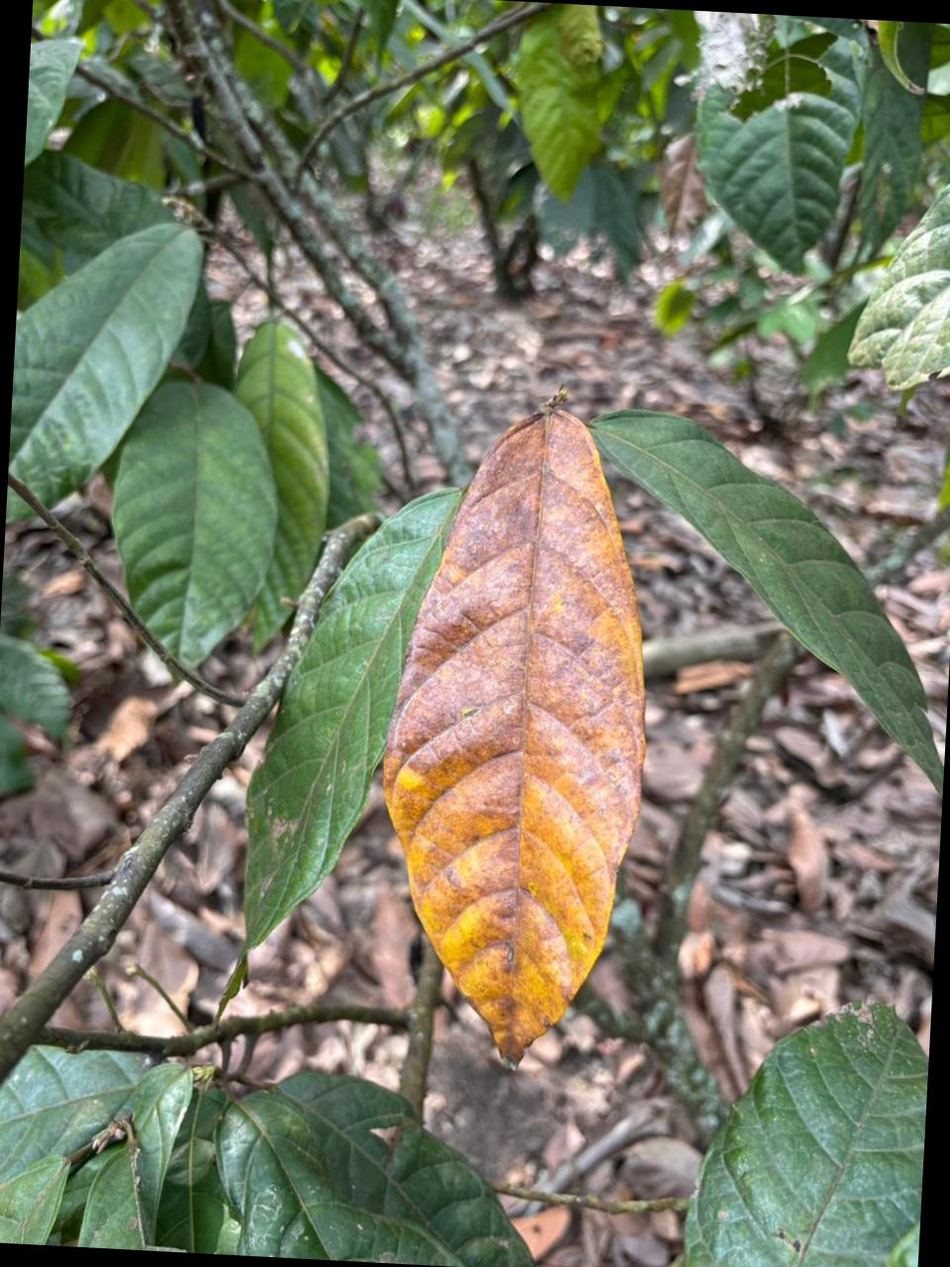Fosforo: (384, 402, 645, 1060)
